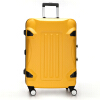luggage: (23, 3, 79, 98)
